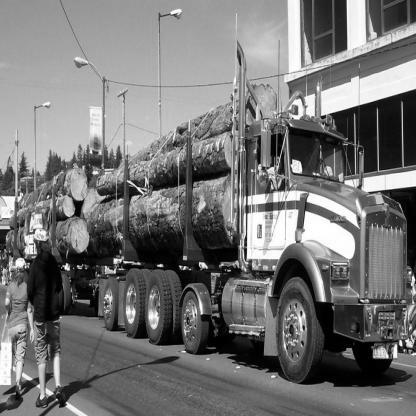truck: (1, 107, 407, 368)
